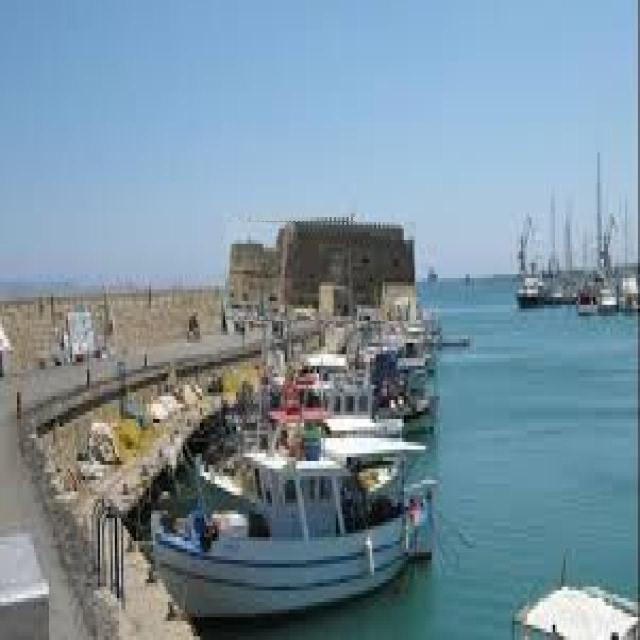Kules: (227, 223, 417, 322)
